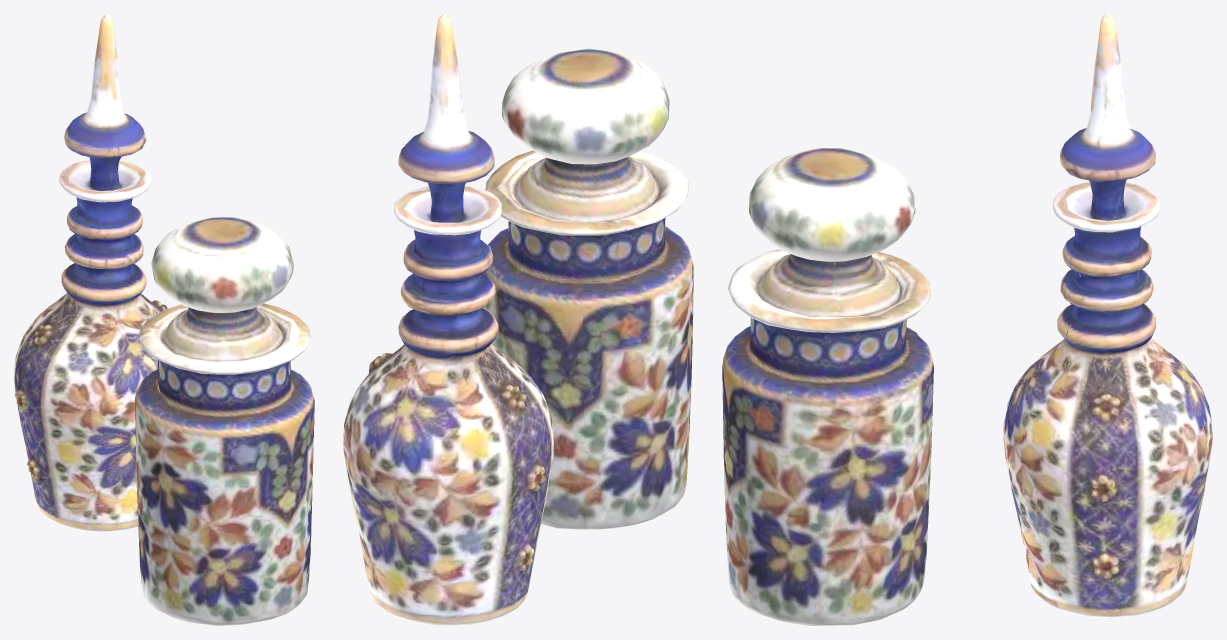
File: obj_perfume_bottles_with_floral_.glb
3 views of the same model, side by side, from view 1: azimuth 30°, elevation 25°; view 2: azimuth 150°, elevation 25°; view 3: azimuth 270°, elevation 25° (orthographic). The views are drawn at different scales.
Visible parts, largest first — view 1: FZRS_101_flakon_niski_edit03w_0; view 2: FZRS_101_flakon_niski_edit03w_0; view 3: FZRS_101_flakon_niski_edit03w_0.
Boxes of the visible parts, box(x1,y1,x2,y2) form: FZRS_101_flakon_niski_edit03w_0: box(14, 14, 314, 625); FZRS_101_flakon_niski_edit03w_0: box(343, 14, 693, 625); FZRS_101_flakon_niski_edit03w_0: box(722, 14, 1212, 625).
Size of the model in its own units: 0.0699 by 0.2001 by 0.1545.
2 materials, 2 textured.
